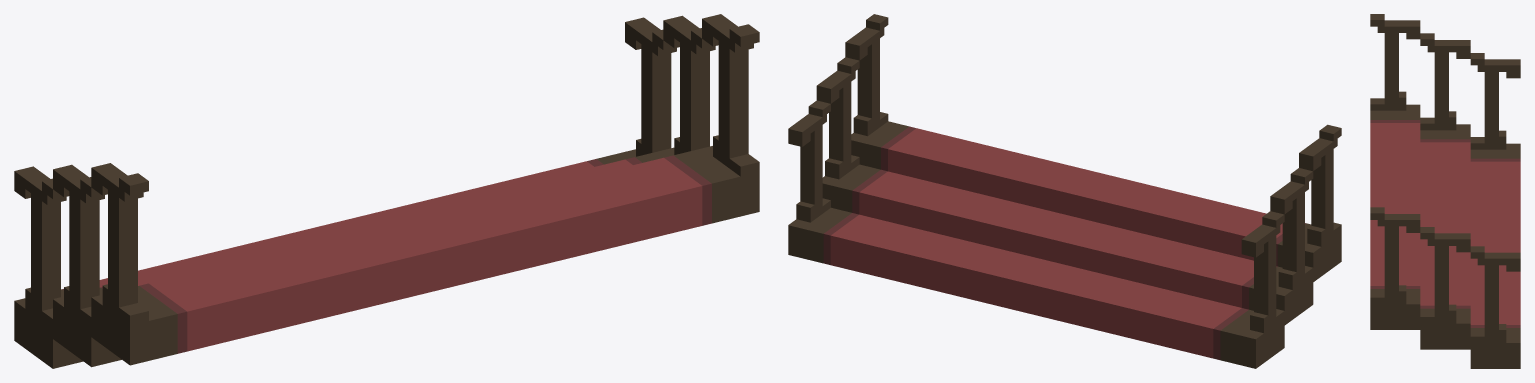
File: GGJ stairs.obj
3 renders of one model, left to right at view 1: azimuth 30°, elevation 25°; view 2: azimuth 150°, elevation 25°; view 3: azimuth 270°, elevation 25°, orthographic. The views are drawn at different scales.
Bounding box in the file's own units: 6.6 × 2.4 × 2.1.
1 material, 1 textured.
